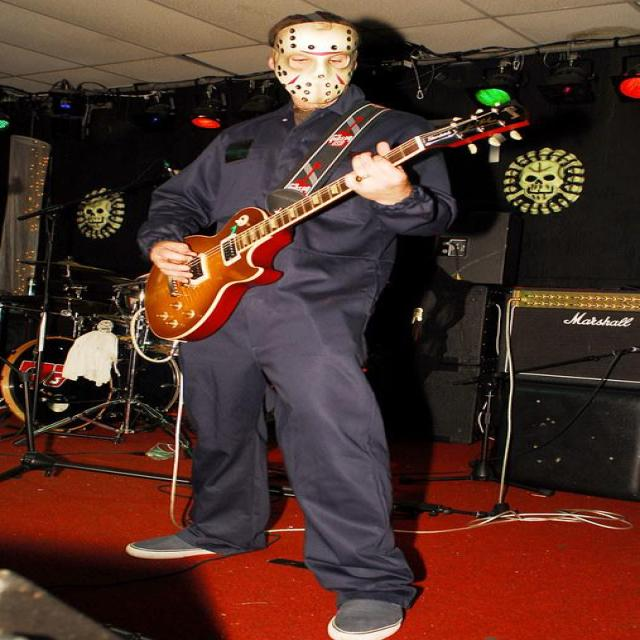guitar: (144, 178, 350, 340)
